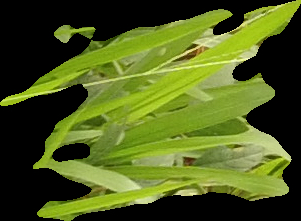grass: (1, 1, 300, 220)
